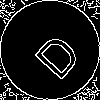D: (25, 25, 84, 82)
